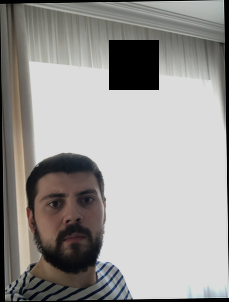without_mask: (33, 185, 105, 274)
